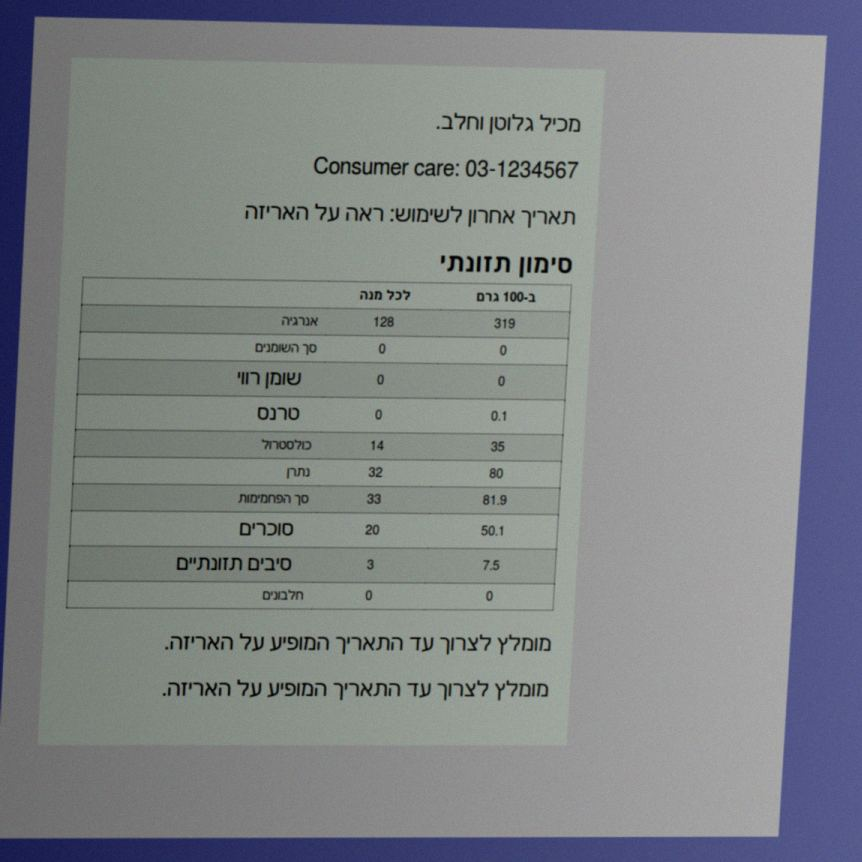carbs: (481, 493, 509, 509)
energy: (492, 316, 517, 332)
fat: (498, 343, 509, 359)
protein: (484, 589, 495, 605)
